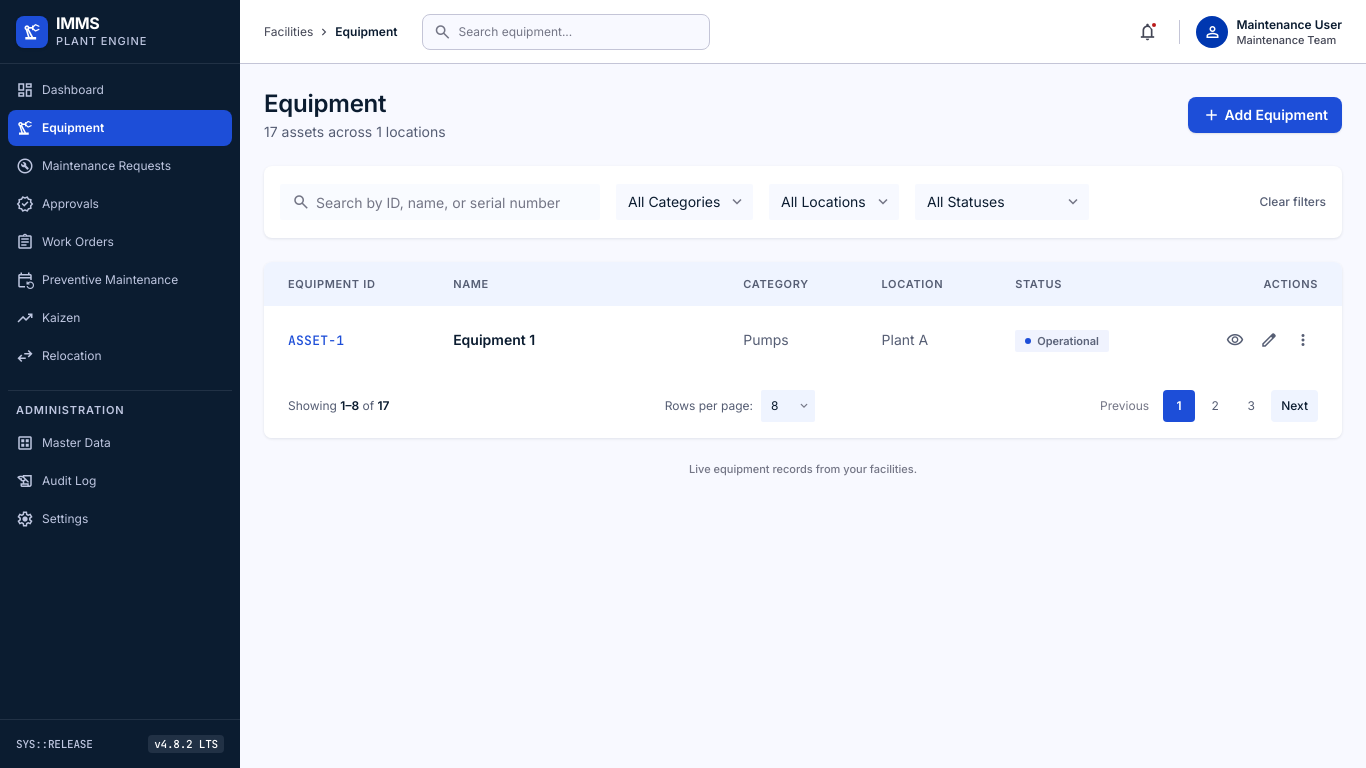
Test: EquipmentListPage › debounces search for 300 ms before fetching and updates the URL
The width and height of the screenshot is (1366, 768).
Type "CNC" into the search field named "Search equipment" at (440, 202), box [280,184,600,220]
Wait 300 ms
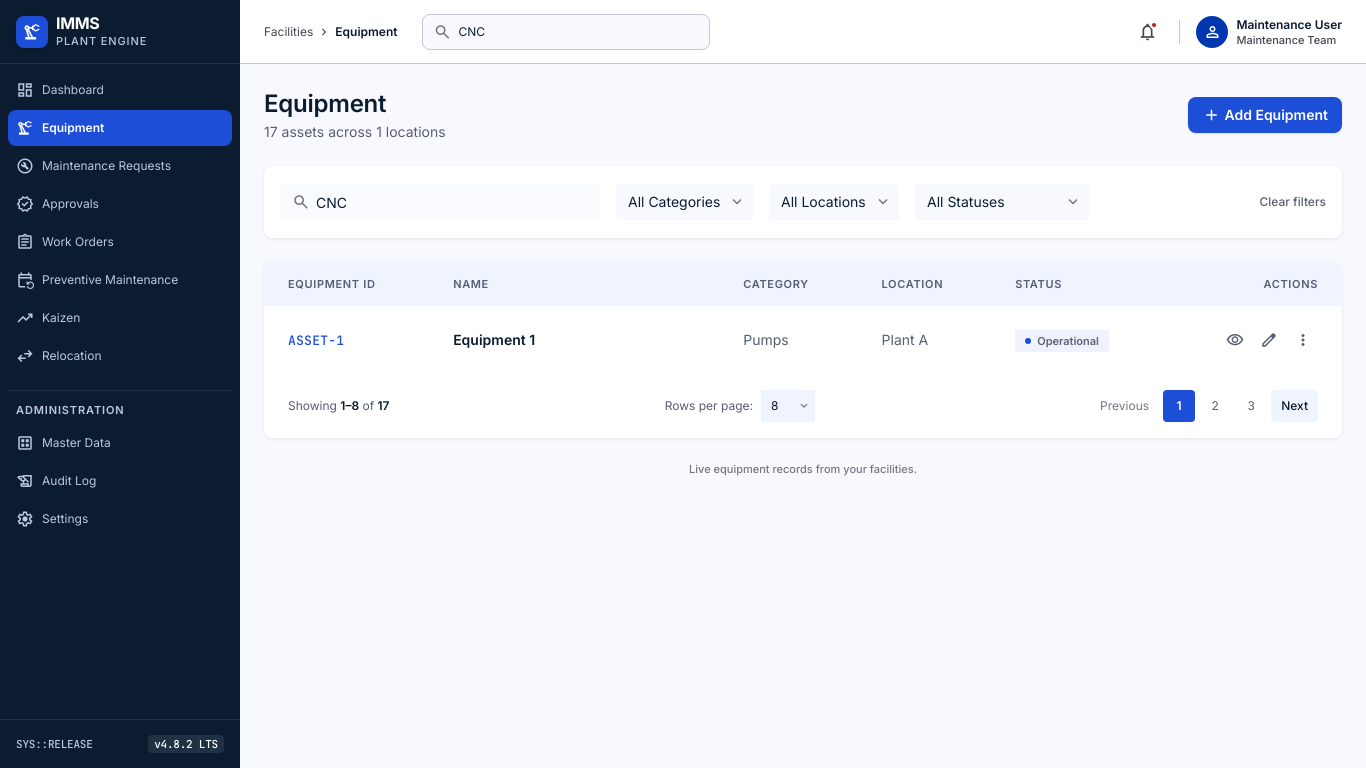
Result: the search field named "Search equipment from header" holds "CNC" at [422,14,710,50]
